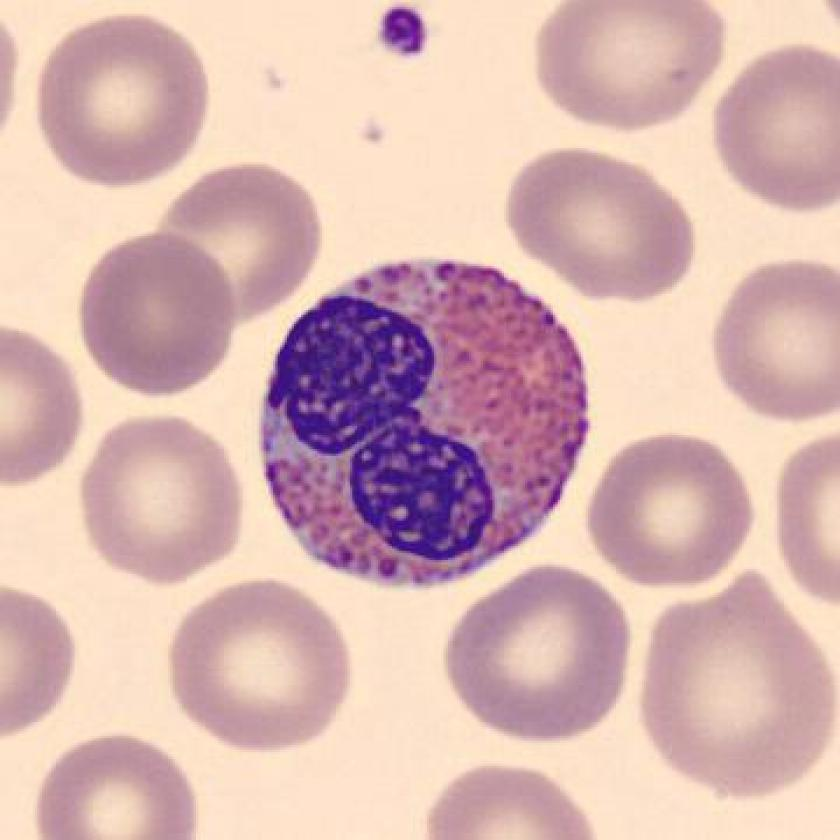eosinophil: (244, 244, 608, 607)
